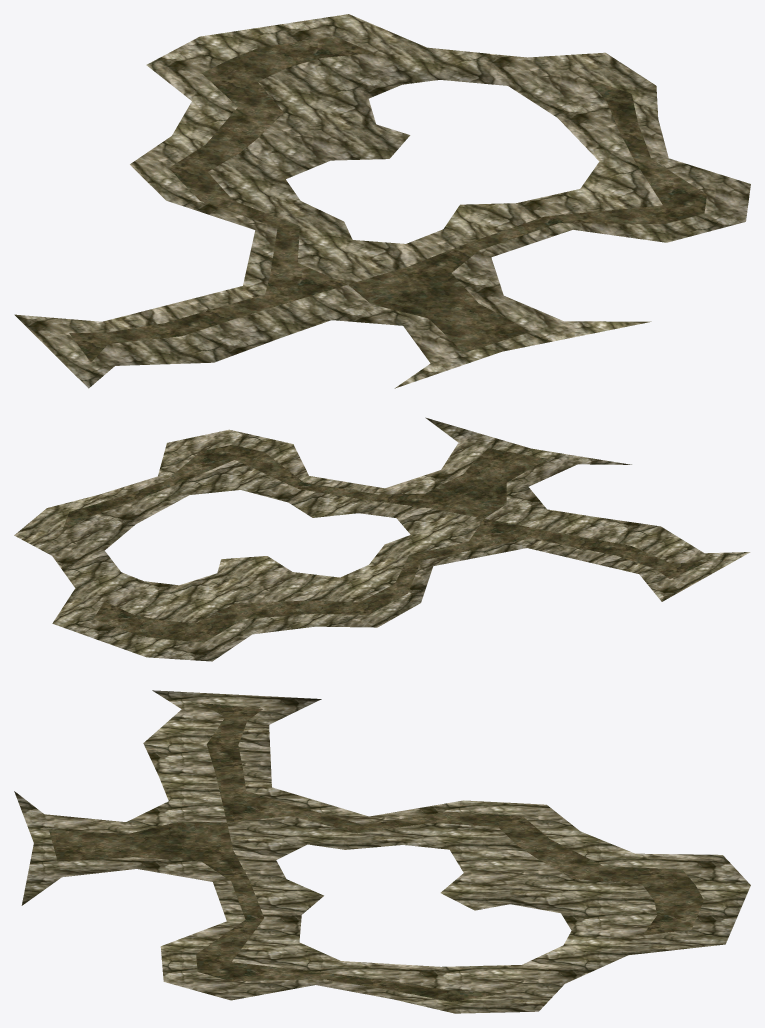
File: CB_NEWPLAYSURFACE_CB_PLAYSURFACE17.fbx
3 renders of one model, top to bottom at view 1: azimuth 30°, elevation 25°; view 2: azimuth 150°, elevation 25°; view 3: azimuth 270°, elevation 25°, orthographic. The views are drawn at different scales.
Parts seen in each view (by area): view 1: CB_NEWPLAYSURFACE_CB_PLAYSURFACE17; view 2: CB_NEWPLAYSURFACE_CB_PLAYSURFACE17; view 3: CB_NEWPLAYSURFACE_CB_PLAYSURFACE17.
Boxes of the visible parts, x1,y1,x2,y2 form: CB_NEWPLAYSURFACE_CB_PLAYSURFACE17: (14, 14, 750, 388); CB_NEWPLAYSURFACE_CB_PLAYSURFACE17: (14, 417, 750, 661); CB_NEWPLAYSURFACE_CB_PLAYSURFACE17: (14, 690, 750, 1013).
Size of the model in its own units: 455910 by 124 by 439275.
Materials: 2 (2 with a texture image).
